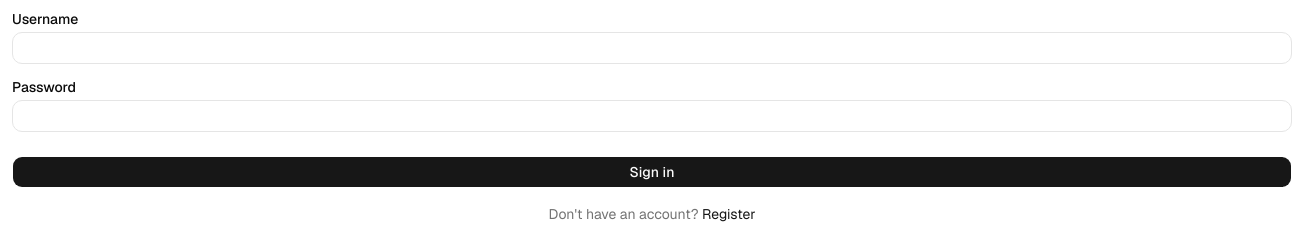
Test: LoginForm › accessibility › shows pending state to screen readers
Type "testuser" into the field labelled "Username" at [652, 48], box x1=12 y1=32 x2=1292 y2=64
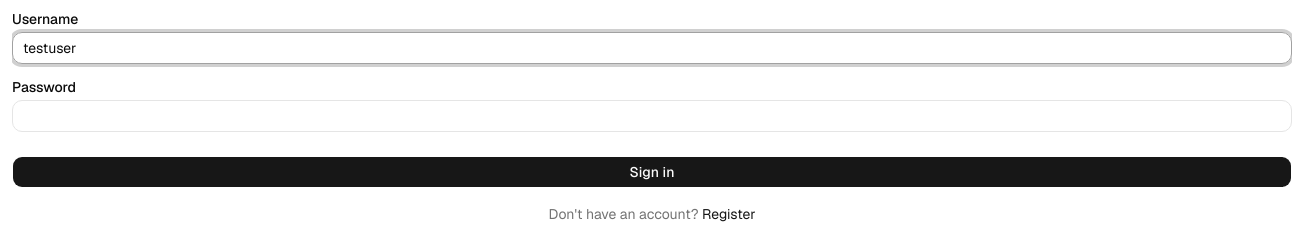
Type "password123" into the password field labelled "Password" at [652, 116], box x1=12 y1=100 x2=1292 y2=132
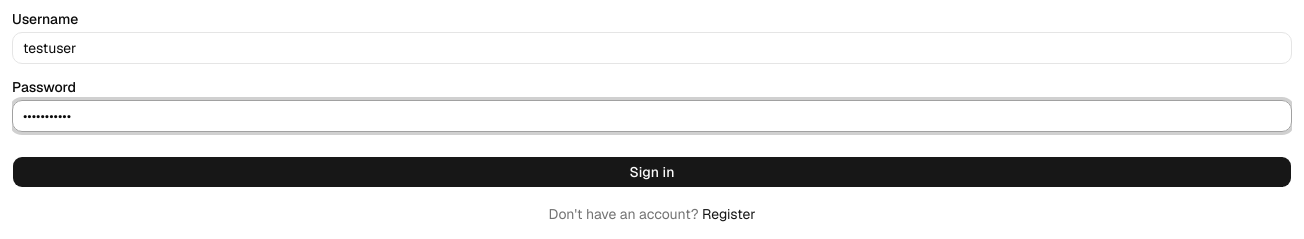
Click the button at [652, 172], box x1=12 y1=156 x2=1292 y2=188
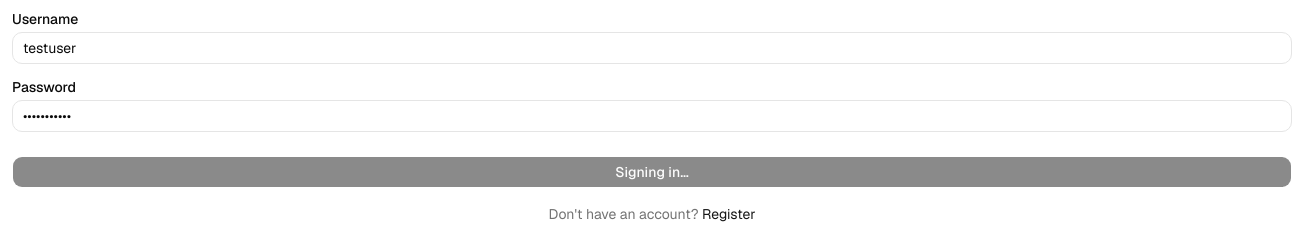
Now the button reads "Signing in…", box x1=12 y1=156 x2=1292 y2=188
